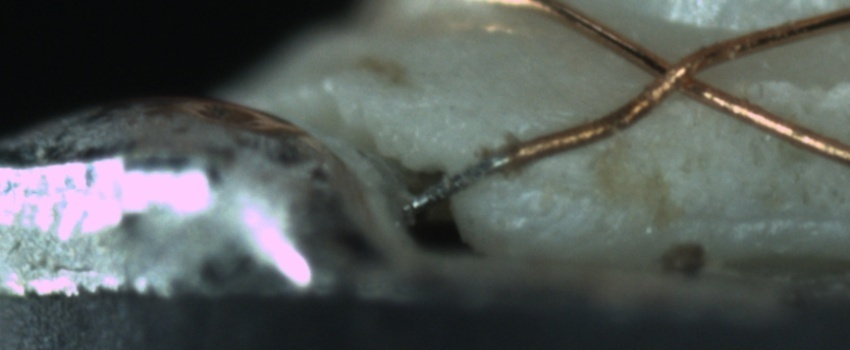CL: (631, 38, 725, 107)
TS: (410, 151, 513, 210)
TTCW: (405, 128, 571, 208)
